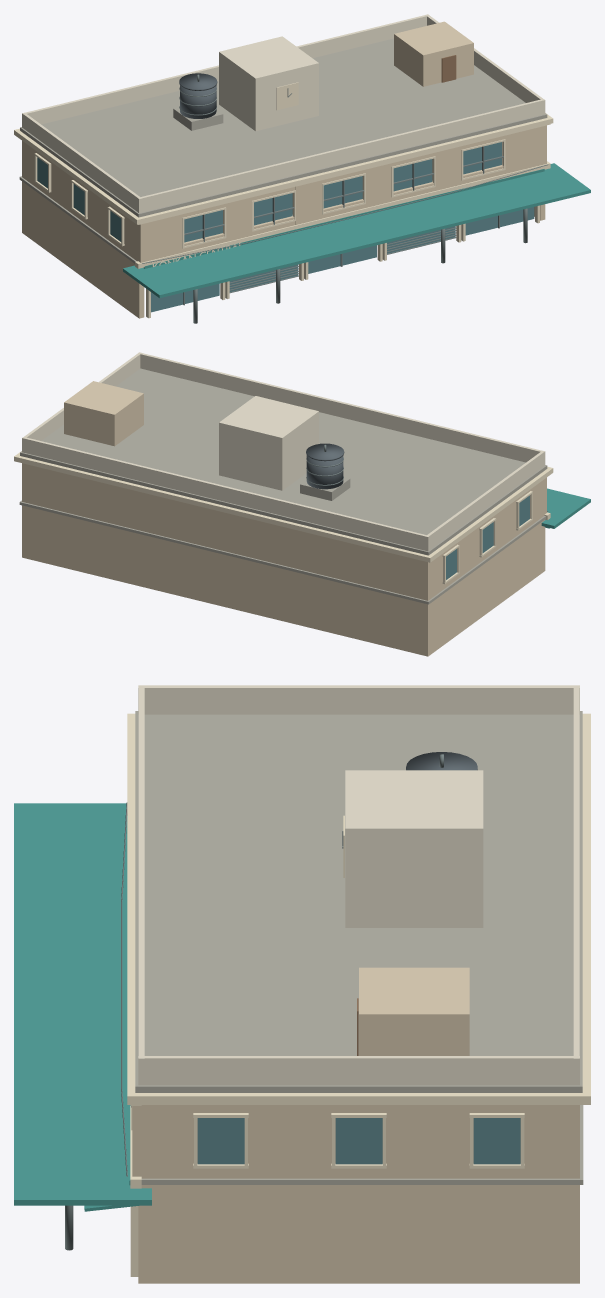
Rendered from station.glb.
The picture shows the model from 3 angles, top to bottom: view 1: azimuth 30°, elevation 25°; view 2: azimuth 150°, elevation 25°; view 3: azimuth 270°, elevation 25°; orthographic projection. The views are drawn at different scales.
Parts seen in each view (by area): view 1: station_CONCRETE, station_PLASTER, station_PLASTER_LIGHT, station_AWNING, station_CREAM, station_GLASS, station_METAL, station_TANK; view 2: station_PLASTER, station_CONCRETE, station_PLASTER_LIGHT, station_CREAM, station_TANK, station_AWNING, station_GLASS; view 3: station_CONCRETE, station_PLASTER, station_PLASTER_LIGHT, station_AWNING, station_CREAM, station_GLASS, station_METAL, station_TANK.
Boxes of the visible parts, bbox=[...] form: station_CONCRETE: bbox=[19, 38, 547, 263]; station_PLASTER: bbox=[22, 21, 546, 318]; station_PLASTER_LIGHT: bbox=[22, 14, 545, 213]; station_AWNING: bbox=[123, 163, 590, 298]; station_CREAM: bbox=[14, 82, 553, 318]; station_GLASS: bbox=[37, 142, 534, 312]; station_METAL: bbox=[142, 74, 548, 323]; station_TANK: bbox=[179, 73, 217, 118]; station_PLASTER: bbox=[22, 381, 546, 656]; station_CONCRETE: bbox=[19, 368, 547, 604]; station_PLASTER_LIGHT: bbox=[22, 352, 545, 551]; station_CREAM: bbox=[14, 451, 553, 584]; station_TANK: bbox=[306, 443, 344, 489]; station_AWNING: bbox=[541, 488, 590, 528]; station_GLASS: bbox=[446, 495, 529, 579]; station_CONCRETE: bbox=[135, 711, 583, 1184]; station_PLASTER: bbox=[132, 967, 579, 1283]; station_PLASTER_LIGHT: bbox=[138, 685, 579, 1085]; station_AWNING: bbox=[14, 803, 151, 1211]; station_CREAM: bbox=[127, 713, 590, 1276]; station_GLASS: bbox=[197, 1118, 520, 1164]; station_METAL: bbox=[65, 754, 443, 1250]; station_TANK: bbox=[406, 752, 477, 770].
Bounding box in the file's own units: 34 × 11.9 × 20.9.
